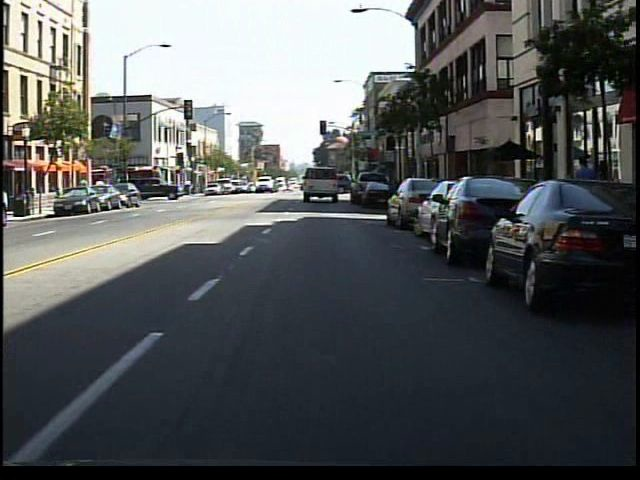person: (567, 150, 596, 237), (593, 156, 617, 233)
